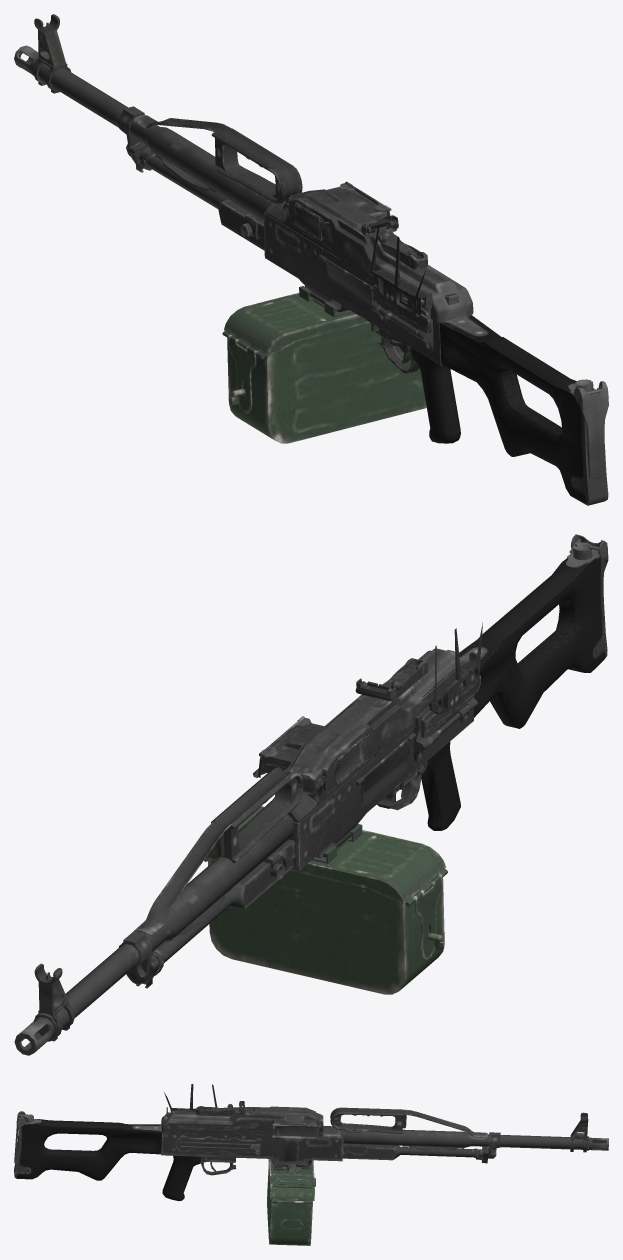
The model's file is pkm.glb.
3 views of the same model, one above another, from view 1: azimuth 30°, elevation 25°; view 2: azimuth 150°, elevation 25°; view 3: azimuth 270°, elevation 25° (orthographic). The views are drawn at different scales.
Parts seen in each view (by area): view 1: body, mag; view 2: body, mag; view 3: body, mag.
Part boxes in pixels (x1,y1,x2,y2): body: (14, 14, 608, 505); mag: (222, 286, 426, 443); body: (14, 534, 608, 1055); mag: (204, 806, 447, 994); body: (14, 1084, 608, 1200); mag: (267, 1159, 315, 1245).
Size of the model in its own units: 0.2479 by 0.2935 by 1.17.
1 material, 1 textured.
